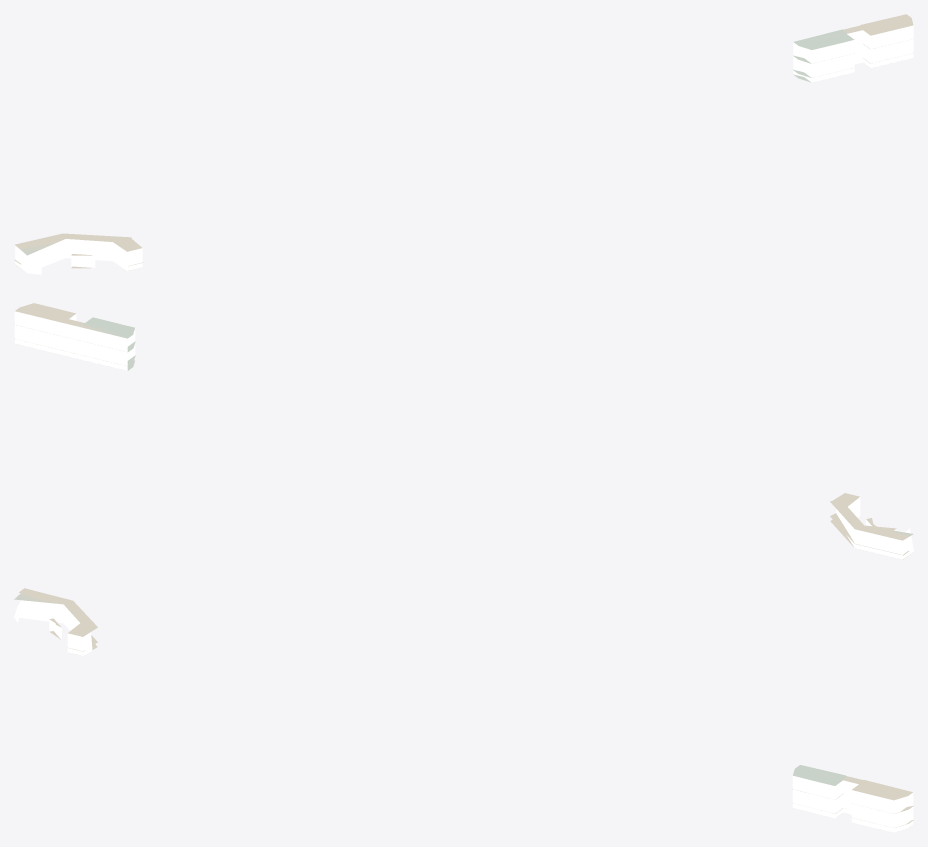
Rendered from buildings--8_4-coarse.glb.
3 views of the same model, one above another, from view 1: azimuth 30°, elevation 25°; view 2: azimuth 150°, elevation 25°; view 3: azimuth 330°, elevation 25° (orthographic).
Visible parts, largest first — view 1: block_-8_4_residential, block_-8_4_roof; view 2: block_-8_4_residential, block_-8_4_roof; view 3: block_-8_4_residential, block_-8_4_roof.
Boxes of the visible parts, x1,y1,x2,y2 form: block_-8_4_residential: [15, 25, 913, 274]; block_-8_4_roof: [14, 14, 913, 270]; block_-8_4_residential: [14, 311, 913, 559]; block_-8_4_roof: [14, 303, 913, 559]; block_-8_4_residential: [14, 600, 913, 832]; block_-8_4_roof: [14, 588, 913, 827].
Bounding box in the file's own units: 527 × 20.63 × 36.3.
